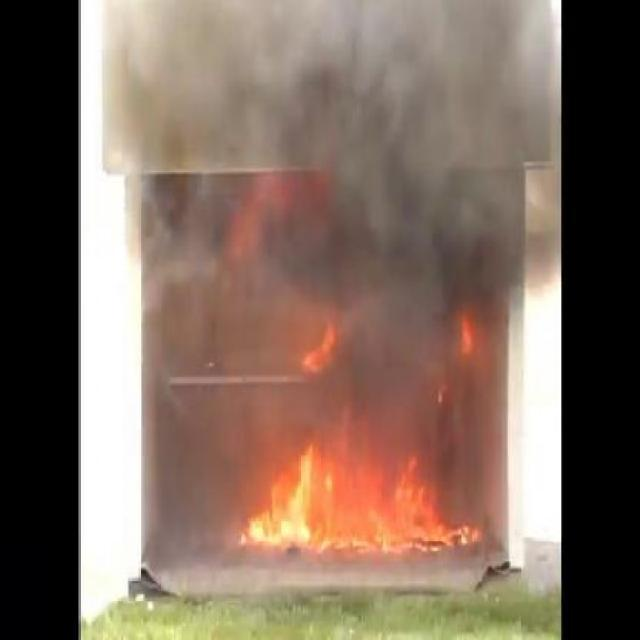fire: (232, 433, 488, 552), (304, 330, 338, 392), (454, 324, 480, 359)
smoke: (324, 17, 508, 318), (148, 175, 301, 374), (170, 14, 318, 157), (156, 412, 212, 566)
